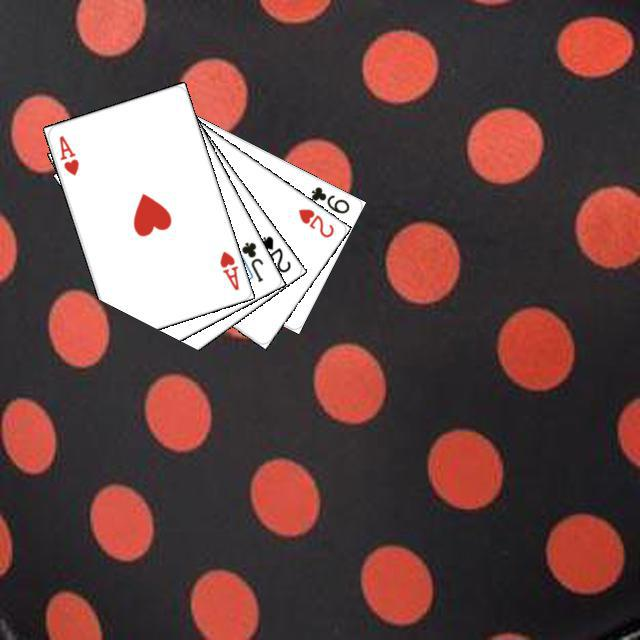2h: (293, 203, 336, 240)
2s: (255, 231, 293, 275)
9c: (306, 182, 351, 216)
Ah: (54, 130, 81, 177), (215, 246, 241, 292)
Jc: (236, 237, 265, 284)
